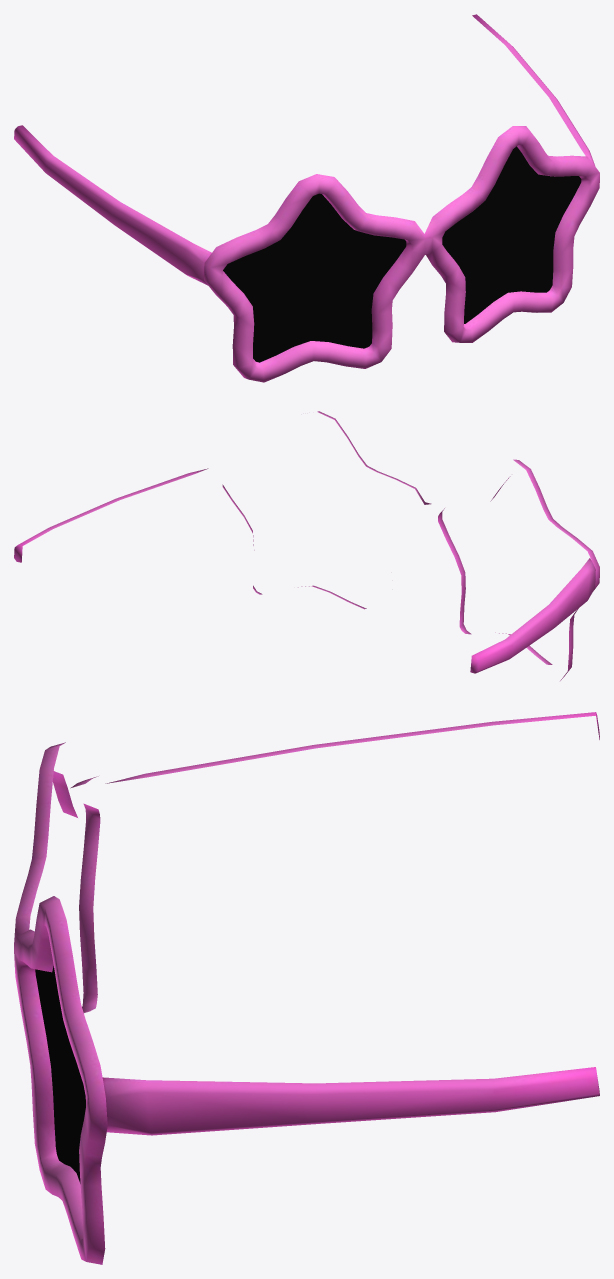
The model's file is outfit_star_glasses.glb.
3 views of the same model, one above another, from view 1: azimuth 30°, elevation 25°; view 2: azimuth 150°, elevation 25°; view 3: azimuth 270°, elevation 25° (orthographic). The views are drawn at different scales.
Parts seen in each view (by area): view 1: outfit_star_glasses; view 2: outfit_star_glasses; view 3: outfit_star_glasses.
Boxes of the visible parts, box(x1,y1,x2,y2) form: outfit_star_glasses: box(14, 14, 599, 382); outfit_star_glasses: box(14, 411, 599, 680); outfit_star_glasses: box(14, 712, 599, 1264).
Bounding box in the file's own units: 0.7147 × 0.3 × 0.4845.
2 materials, 2 textured.
